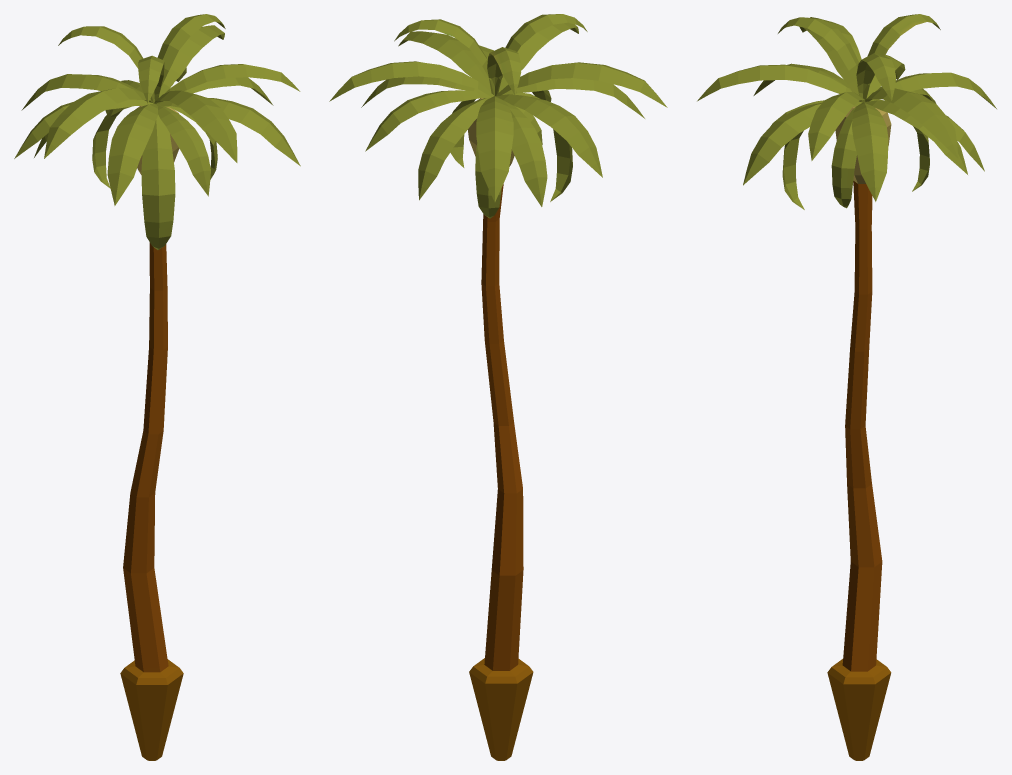
The model's file is kit-palm-tree.glb.
3 views of the same model, side by side, from view 1: azimuth 30°, elevation 25°; view 2: azimuth 150°, elevation 25°; view 3: azimuth 270°, elevation 25° (orthographic).
Parts seen in each view (by area): view 1: Cylinder; view 2: Cylinder; view 3: Cylinder.
Boxes of the visible parts, box(x1,y1,x2,y2) form: Cylinder: box(14, 14, 300, 760); Cylinder: box(329, 14, 667, 760); Cylinder: box(697, 14, 996, 760).
Bounding box in the file's own units: 1.77 × 4.59 × 1.72.
Materials: 1 (1 with a texture image).
